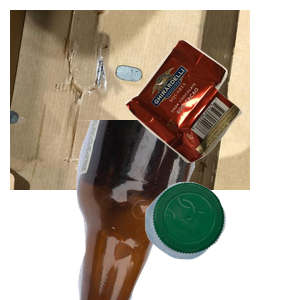cardboard: (10, 10, 250, 190)
glass: (60, 120, 300, 300)
plastic: (142, 179, 300, 300)
trash: (123, 37, 300, 192)
